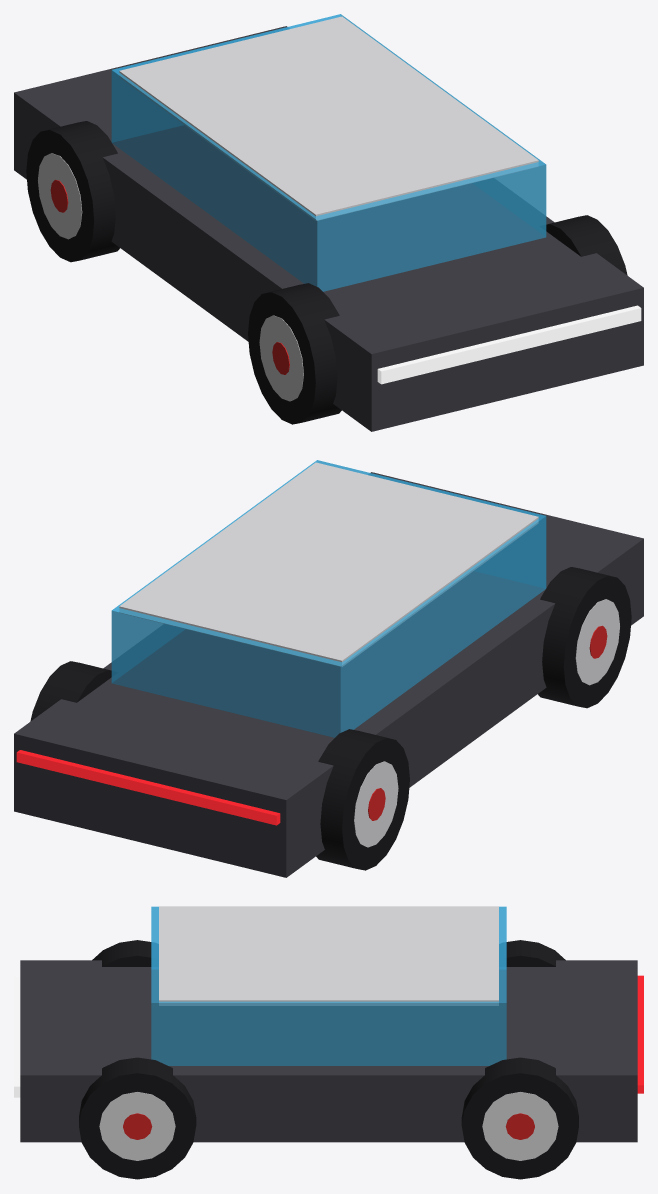
Rendered from lucid_air.glb.
3 renders of one model, top to bottom at view 1: azimuth 30°, elevation 25°; view 2: azimuth 150°, elevation 25°; view 3: azimuth 270°, elevation 25°, orthographic. The views are drawn at different scales.
Bounding box in the file's own units: 0.5035 × 0.2794 × 1.
